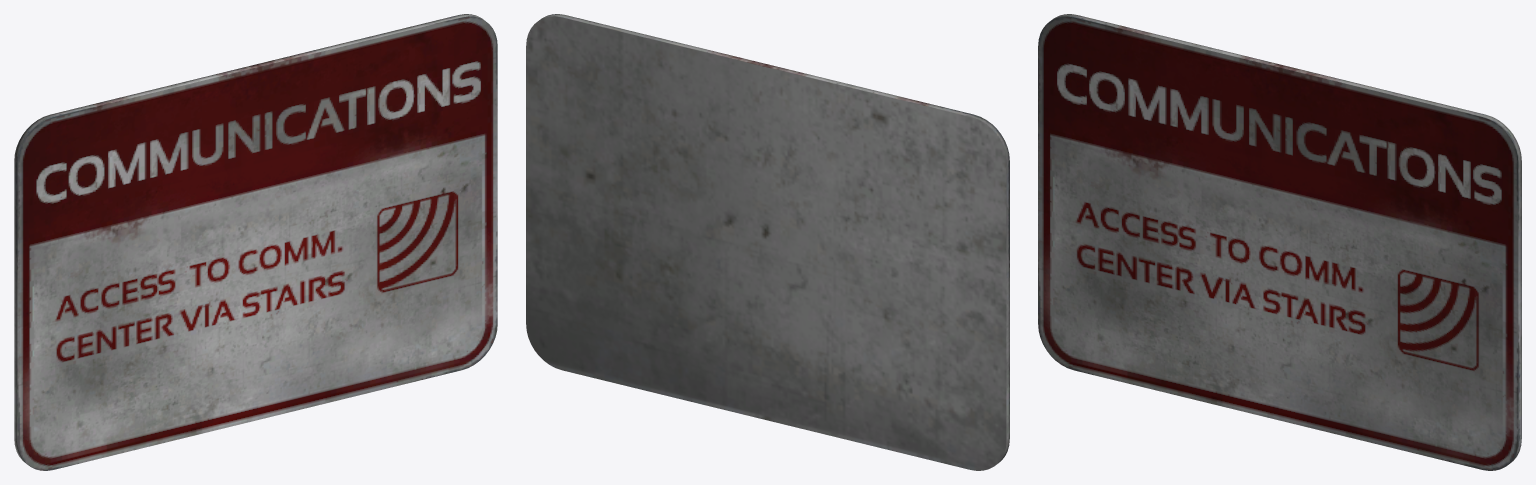
File: sign_warning_communications.dae
3 views of the same model, side by side, from view 1: azimuth 30°, elevation 25°; view 2: azimuth 150°, elevation 25°; view 3: azimuth 330°, elevation 25° (orthographic).
Visible parts, largest first — view 1: sign_warning_airlock; view 2: sign_warning_airlock; view 3: sign_warning_airlock.
Part boxes in pixels (<box>): sign_warning_airlock: <box>14,14,497,470</box>; sign_warning_airlock: <box>526,14,1009,470</box>; sign_warning_airlock: <box>1038,14,1521,470</box>.
Size of the model in its own units: 0.3985 by 0.00488 by 0.2798.
Materials: 1 (1 with a texture image).
